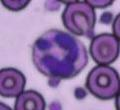N: (32, 30, 88, 78)
